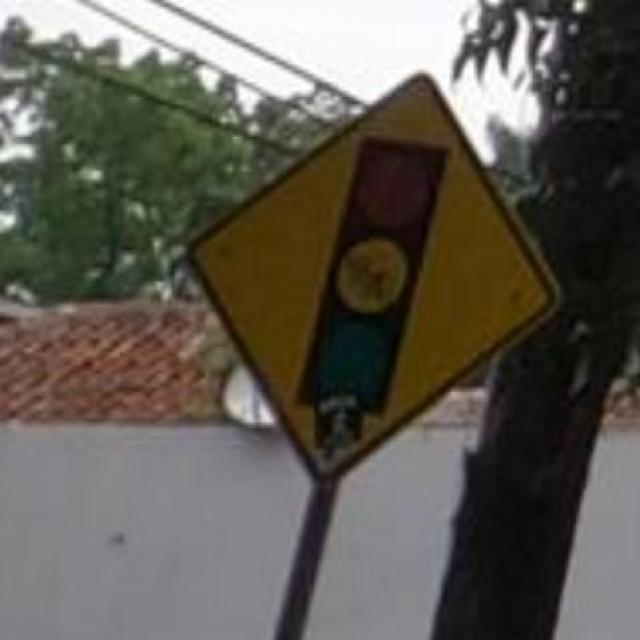traffic sign: (190, 76, 546, 463)
